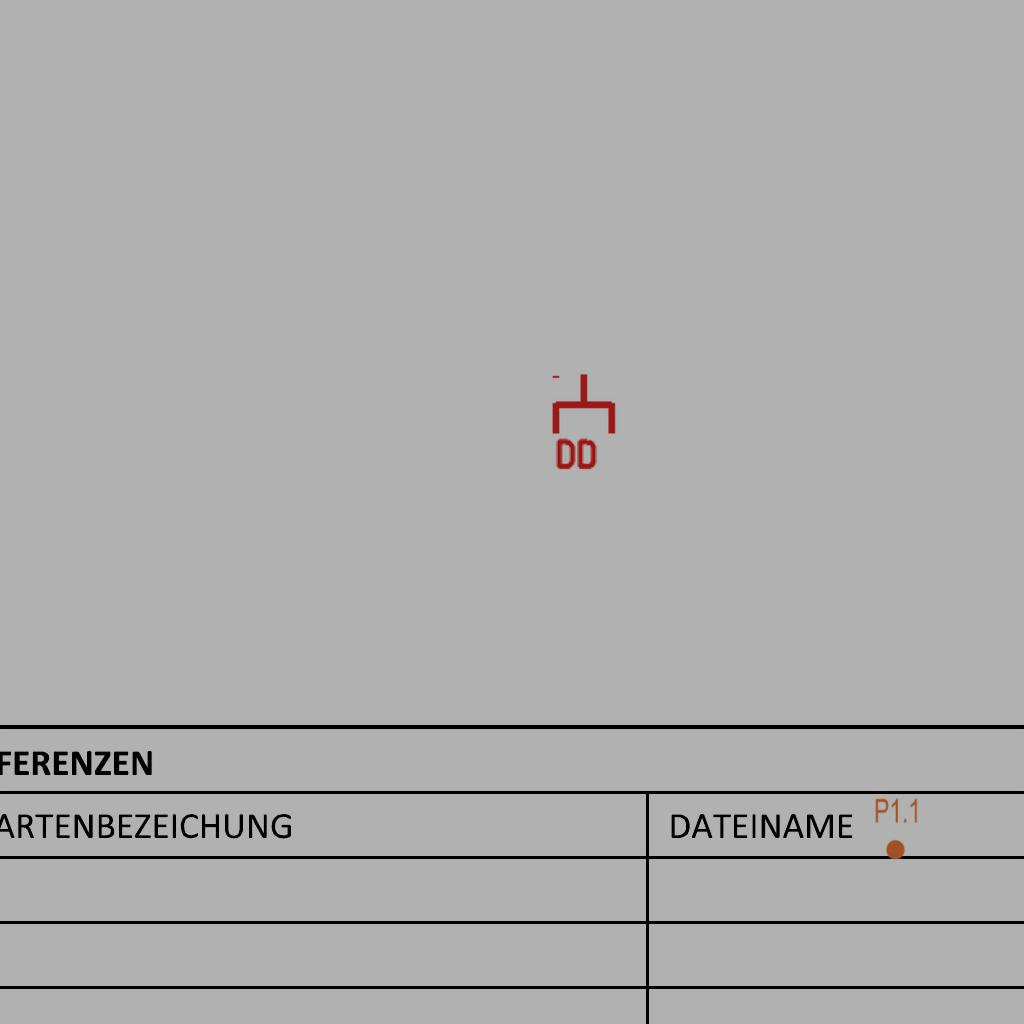Datenanschluss_zweifach: (551, 371, 620, 474)
Downlight_LED_Einbauleuchten_Flur: (874, 797, 920, 861)
